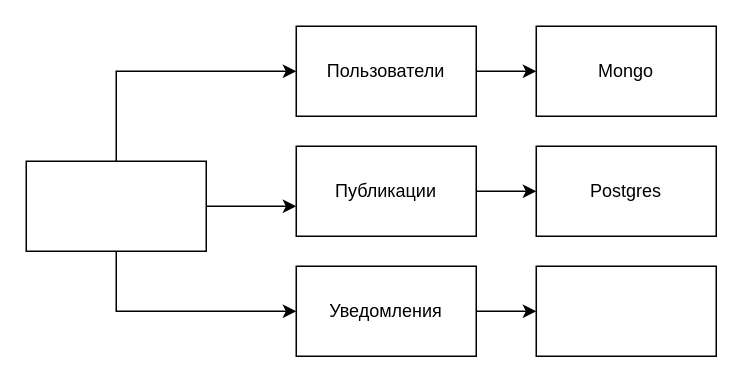
Image size: 743x383. Some labels were removed from this diagram. Each missing label, with the centre of its shape:
"BFF" goes at (115,205).
"Rabbit" goes at (625,310).
